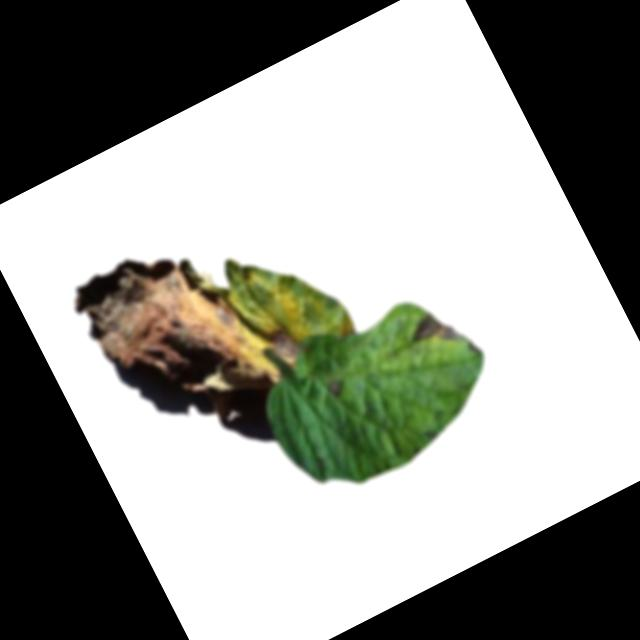Early_blight: (64, 180, 362, 449), (400, 298, 481, 378), (324, 378, 346, 401)
